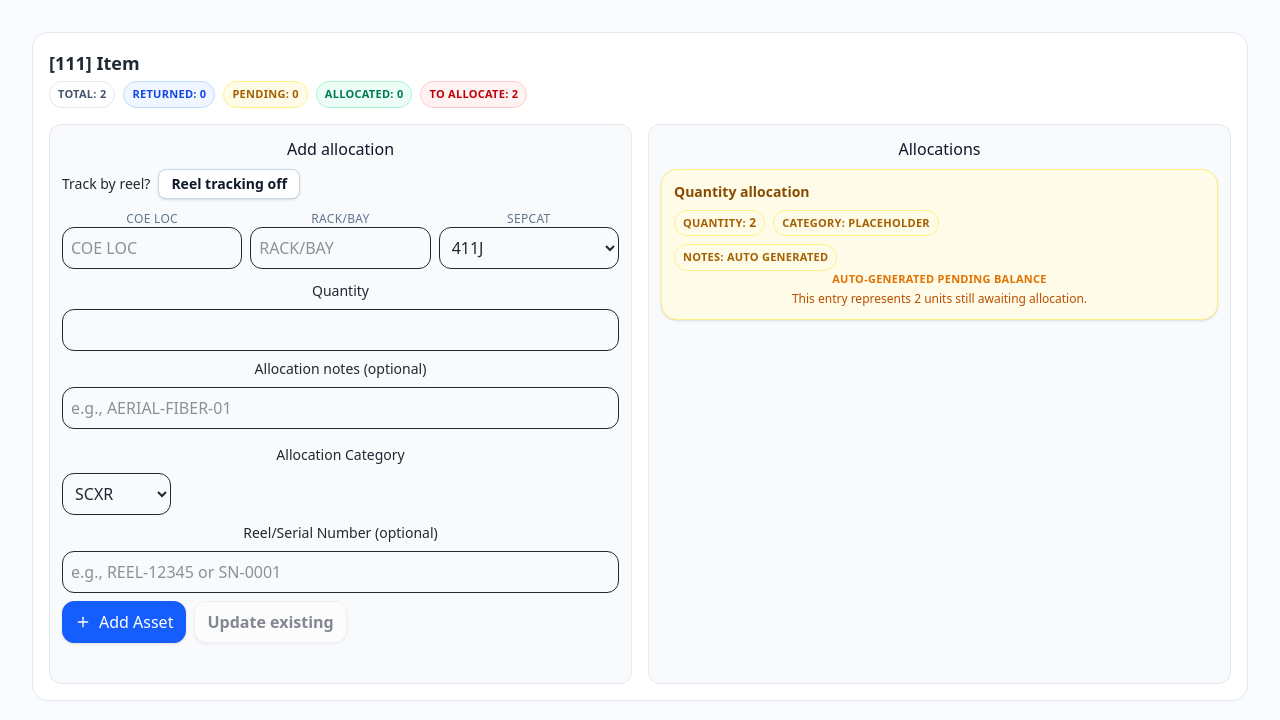
Scenario: SCXR asset metadata persists when submitting add asset form
Type "COE TEST 1" into the field with placeholder "COE LOC" at [152, 248], box [62,226,242,268]
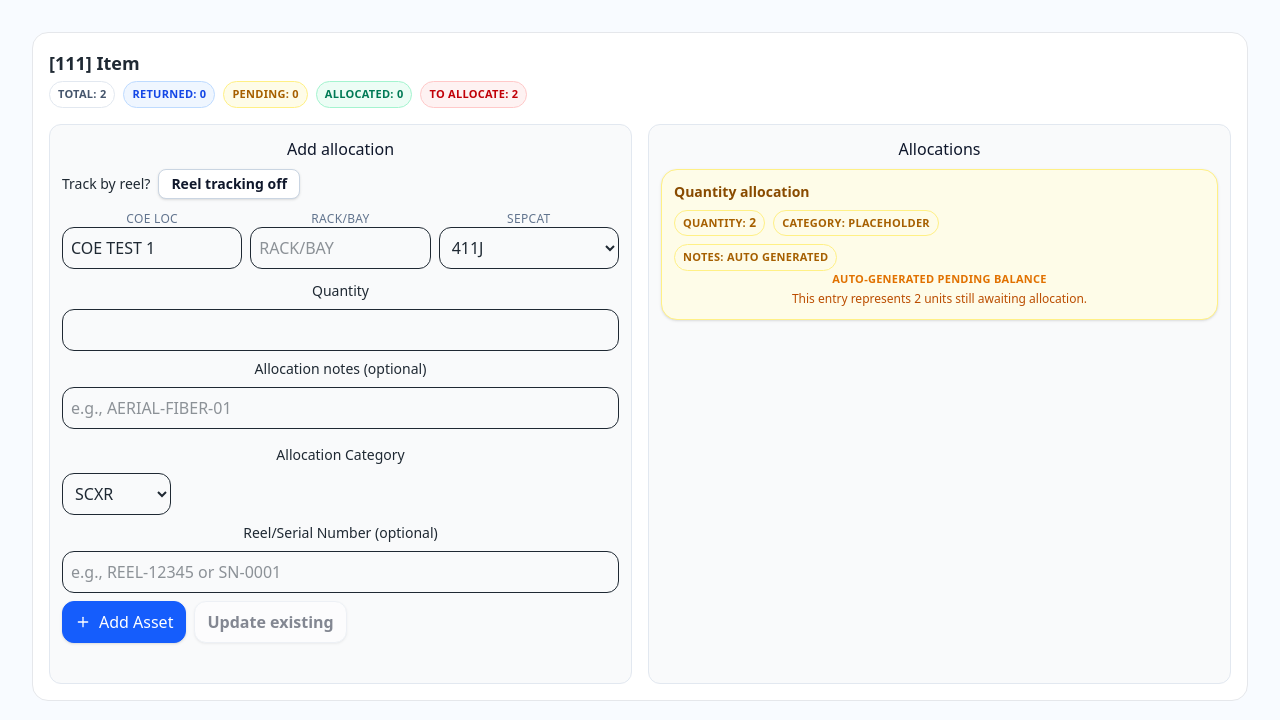
Type "RB TEST 1" into the field with placeholder "RACK/BAY" at [340, 248], box [250,226,431,268]
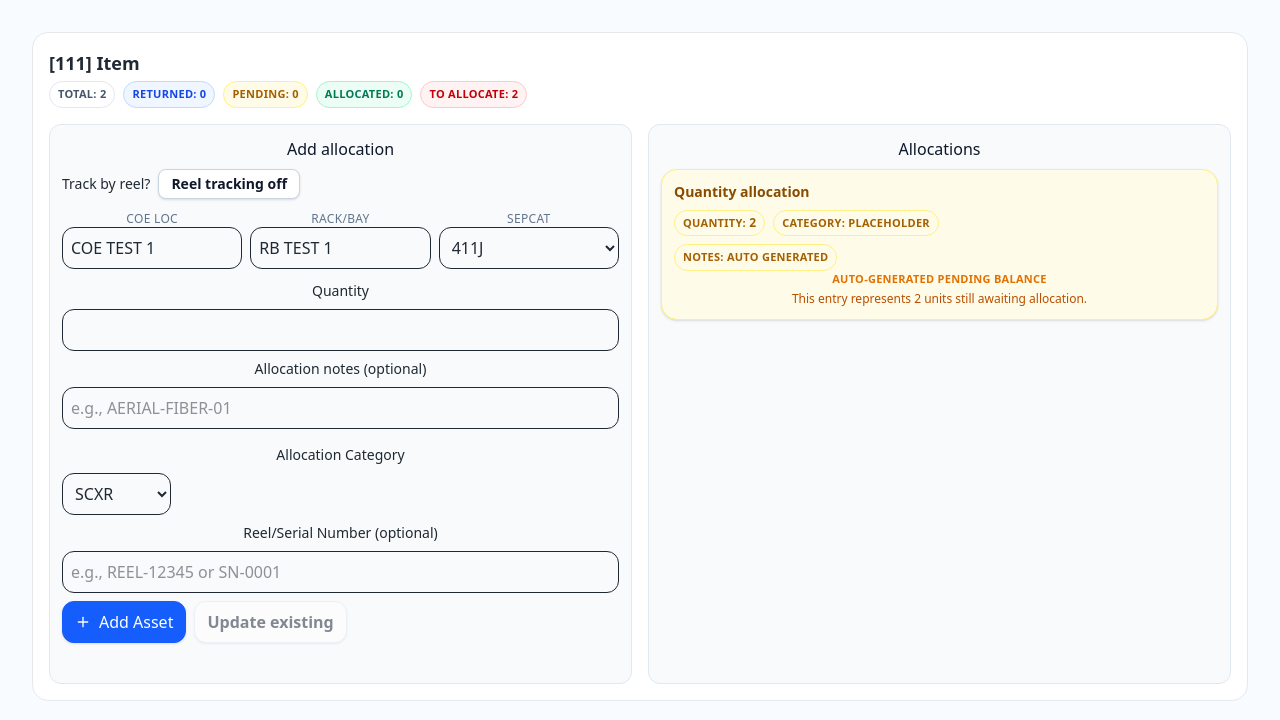
Select "411J" in the dropdown labelled "SEPCAT" at [529, 248], box [439,226,619,268]
Type "1" into the number field at [340, 330], box [62,308,619,350]
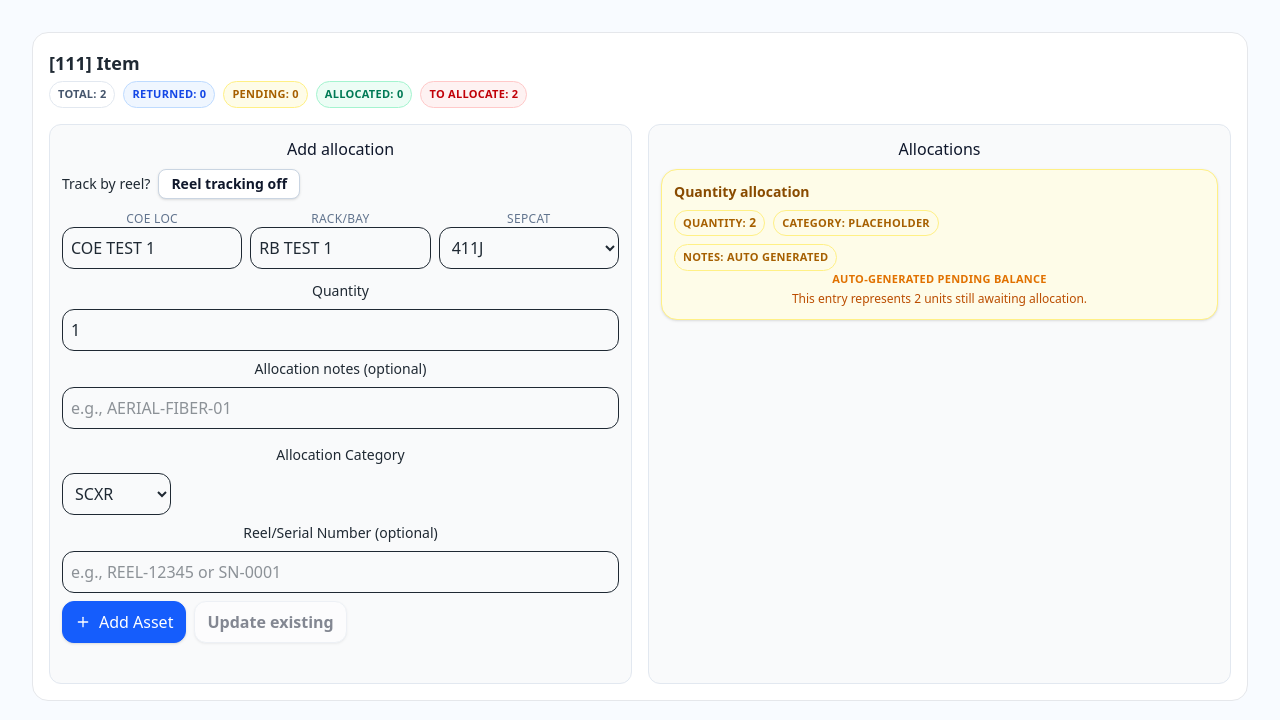
Click the button "Add Asset" at [124, 622], box [62,600,186,642]
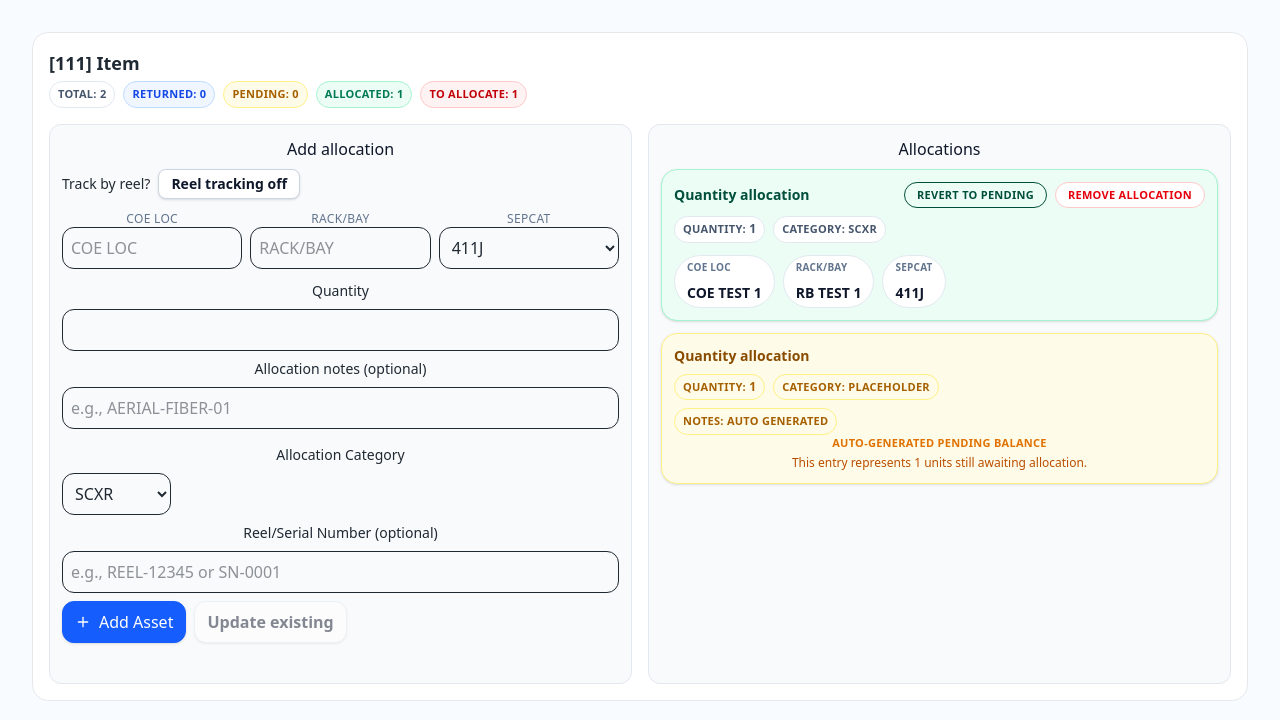
Result: the text "COE TEST 1" is shown at [687,282,762,302]
Result: the text "RB TEST 1" is shown at [796,282,861,302]
Result: the text "411J" is shown at [895,282,924,302]
